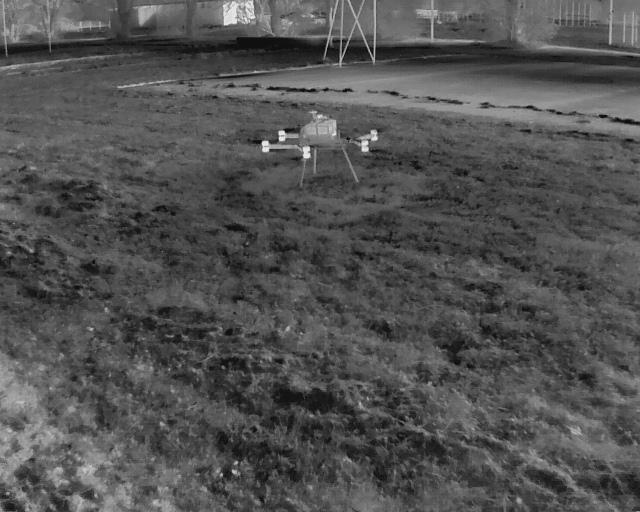drone: (239, 106, 411, 199)
